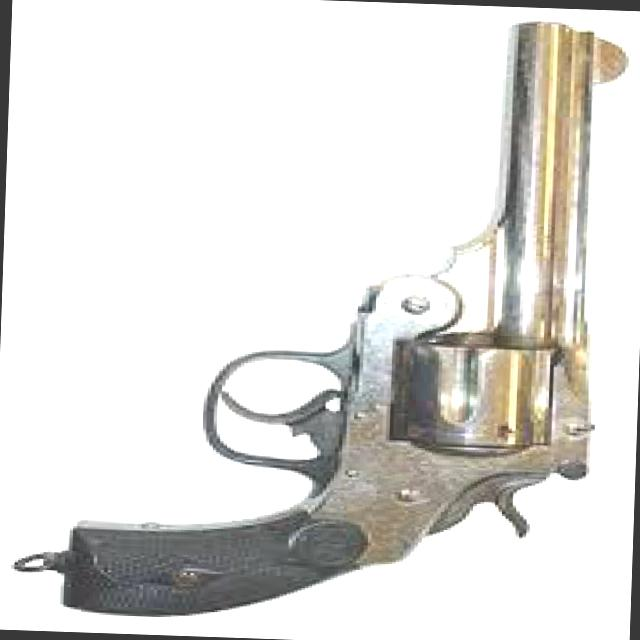handgun: (58, 6, 632, 634)
